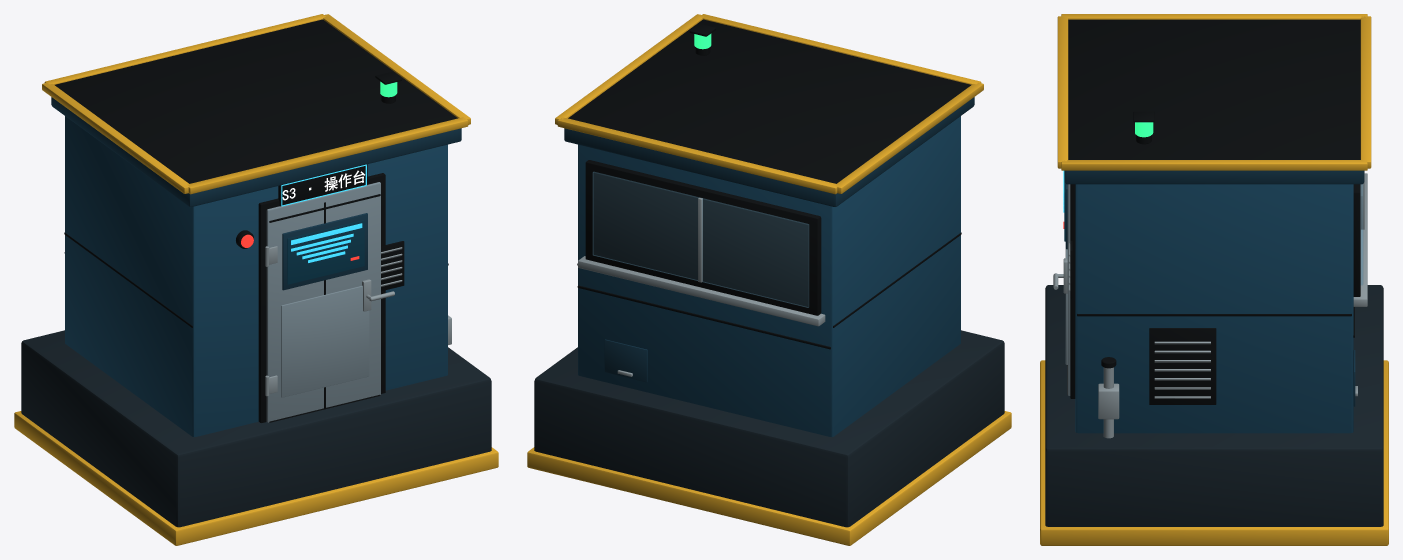
The model's file is pulpits_S3.glb.
The picture shows the model from 3 angles, left to right: view 1: azimuth 30°, elevation 25°; view 2: azimuth 150°, elevation 25°; view 3: azimuth 270°, elevation 25°; orthographic projection. The views are drawn at different scales.
Visible parts, largest first — view 1: Pulpit_S3; view 2: Pulpit_S3; view 3: Pulpit_S3.
Boxes of the visible parts, x1,y1,x2,y2 form: Pulpit_S3: [14, 14, 498, 545]; Pulpit_S3: [527, 14, 1011, 545]; Pulpit_S3: [1040, 14, 1388, 545].
Size of the model in its own units: 2.28 by 2.49 by 1.98.
